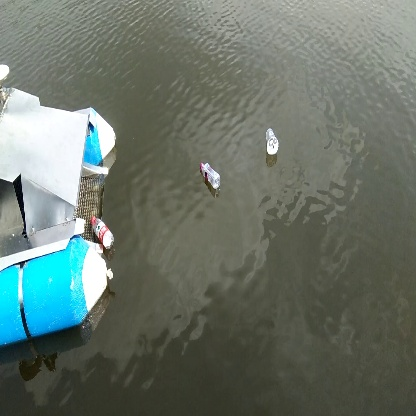bottle: (193, 158, 228, 193), (259, 123, 282, 159)
